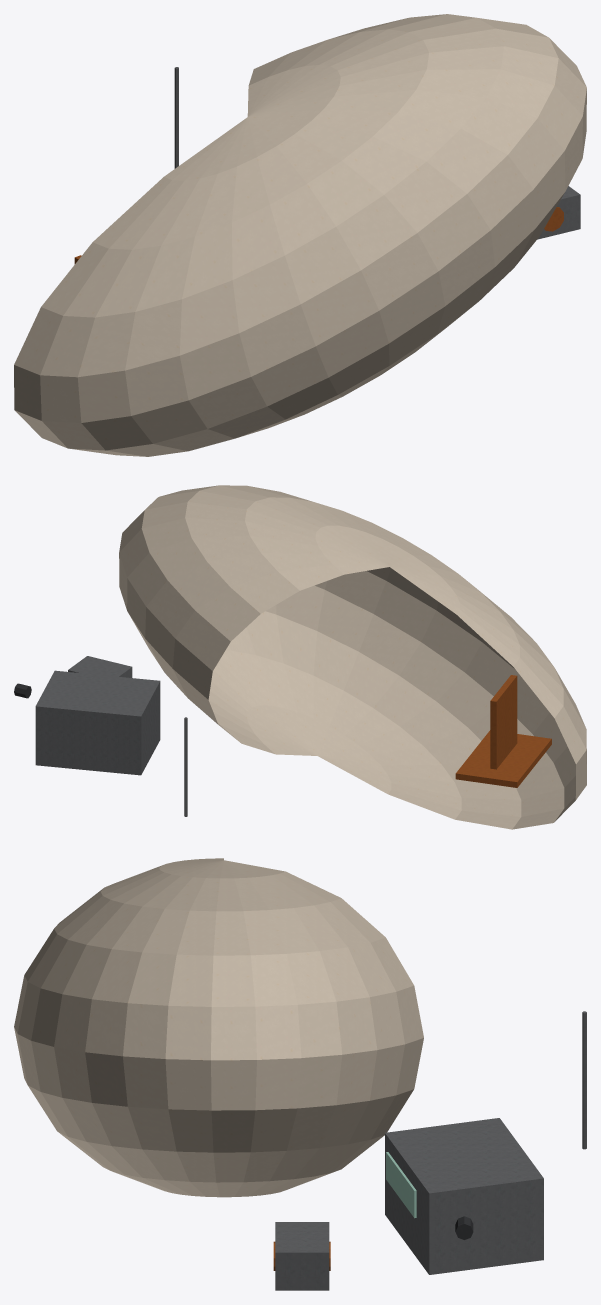
The model's file is skyroute_wreck_01.glb.
The picture shows the model from 3 angles, top to bottom: view 1: azimuth 30°, elevation 25°; view 2: azimuth 150°, elevation 25°; view 3: azimuth 270°, elevation 25°; orthographic projection. The views are drawn at different scales.
Parts seen in each view (by area): view 1: skyroute_wreck_01; view 2: skyroute_wreck_01; view 3: skyroute_wreck_01.
Boxes of the visible parts, x1=… form: skyroute_wreck_01: x1=14, y1=14, x2=586, y2=456; skyroute_wreck_01: x1=14, y1=485, x2=586, y2=829; skyroute_wreck_01: x1=14, y1=858, x2=586, y2=1290.
Size of the model in its own units: 25.15 by 13.59 by 19.08.
Materials: 5 (5 with a texture image).
